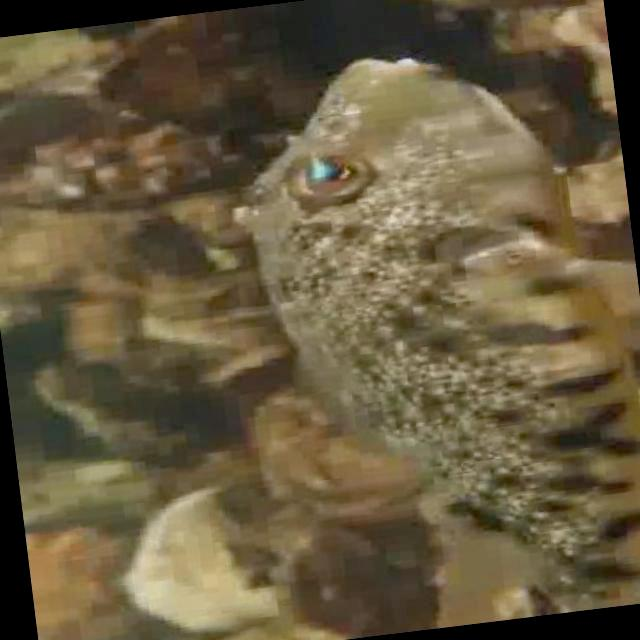Oyster-Closed: (78, 0, 359, 132), (248, 377, 431, 516), (126, 490, 287, 626), (14, 125, 286, 203), (33, 361, 228, 456), (280, 522, 388, 636), (556, 0, 611, 60)
